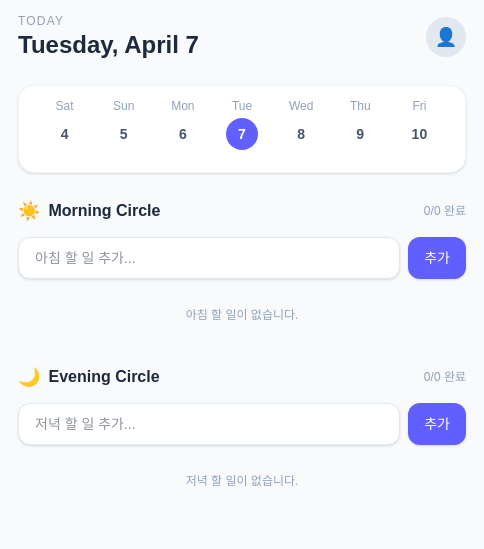
Test case: Home › 저녁 입력창에 태스크를 입력하고 추가할 수 있다
The image size is (484, 549).
Expected: the text "저녁 할 일이 없습니다." is shown, [186,474,298,488]
Type "독서하기" into the field with placeholder "저녁 할 일 추가..." at {"x": 209, "y": 424}, box [18,403,400,445]
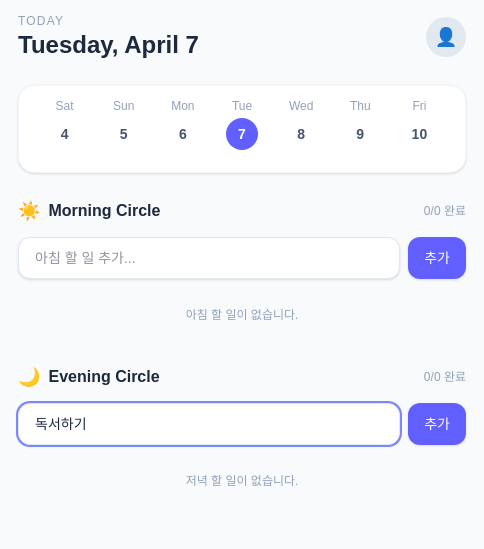
Click the button "추가" below "Evening Circle" at {"x": 437, "y": 424}, box [408,403,466,445]
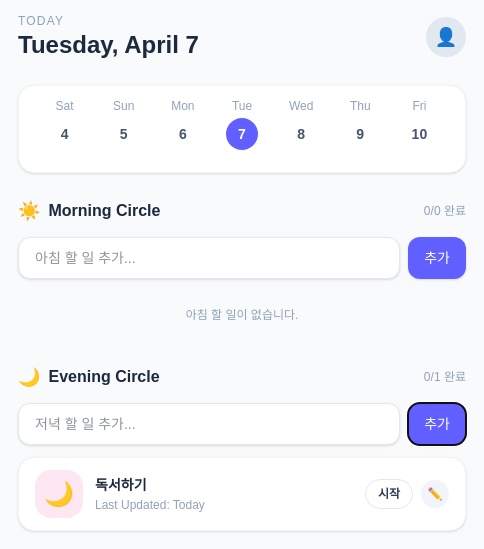
Result: the text "독서하기" is shown at [95,477,146,493]
